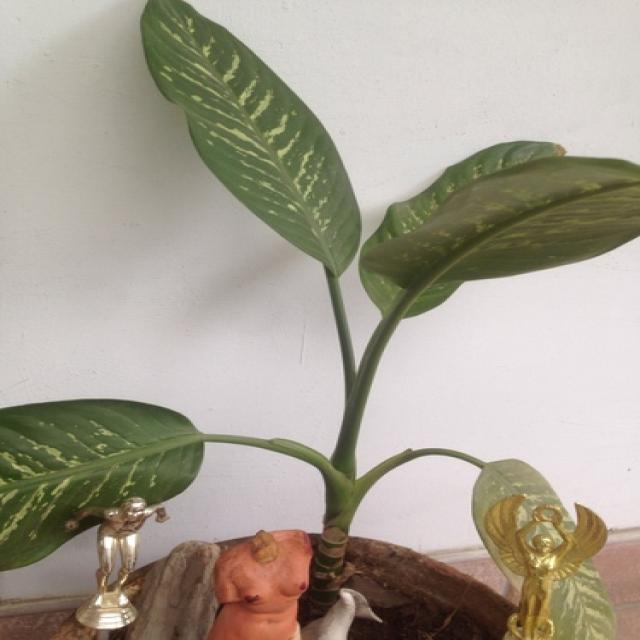dieffenbachia-oVHx: (0, 0, 640, 620), (548, 559, 618, 640)
